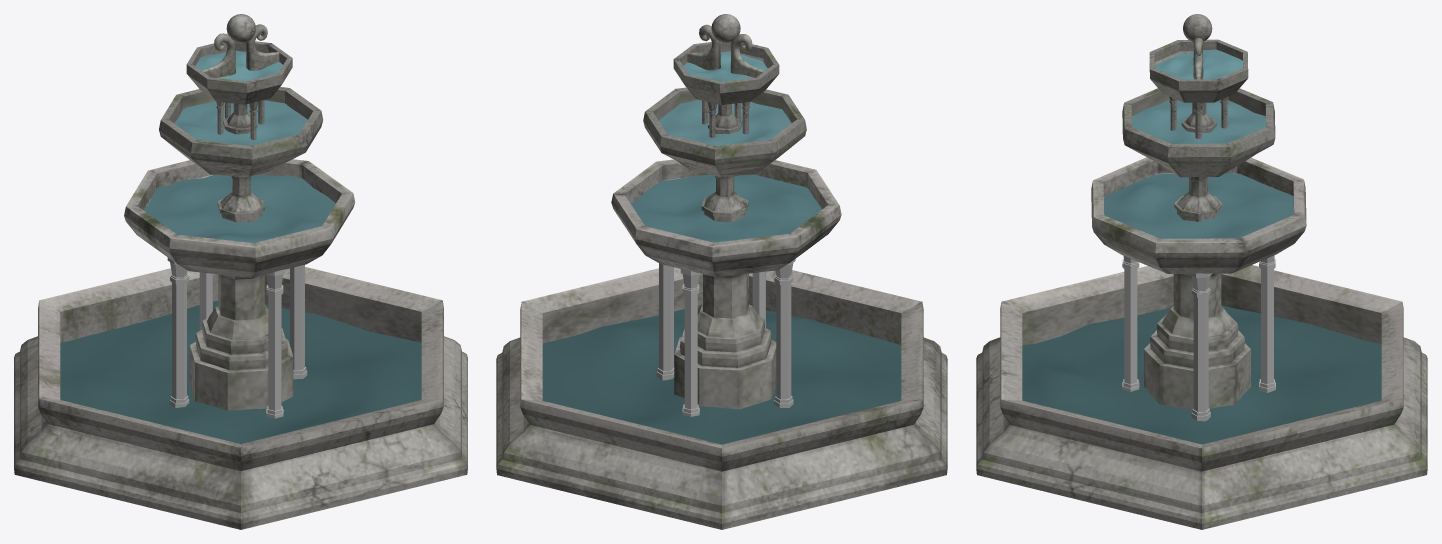
The model's file is Sketch_Fanb_Fountain.fbx.
The picture shows the model from 3 angles, left to right: view 1: azimuth 30°, elevation 25°; view 2: azimuth 150°, elevation 25°; view 3: azimuth 270°, elevation 25°; orthographic projection.
Visible parts, largest first — view 1: pPipe7, pCylinder1, pPipe6, pCylinder2, pasted__pPipe6 (×2), pasted__pCylinder1, pasted__pasted__pPipe5, pasted__pasted__pCylinder1, pasted__pasted__pasted__pasted__pTorus1, pCylinder3, pasted__pasted__pasted__pCylinder1, group25_pasted__group19_pasted__pasted__group18_pasted__past (+2 smaller); view 2: pPipe7, pCylinder1, pPipe6, pCylinder2, pasted__pPipe6 (×2), pasted__pCylinder1, pasted__pasted__pPipe5, pasted__pasted__pCylinder1, pasted__pasted__pasted__pasted__pTorus1, pCylinder3, pasted__pasted__pasted__pCylinder1, group25_pasted__group19_pasted__pasted__group18_pasted__past (+2 smaller); view 3: pPipe7, pCylinder1, pPipe6, pasted__pPipe6 (×2), pCylinder2, pasted__pCylinder1, pasted__pasted__pPipe5, pasted__pasted__pCylinder1, pasted__pasted__pasted__pCylinder1, pCylinder3, group25_pasted__group19_pasted__pasted__group18_pasted__past, pSphere1 (+1 smaller).
Part boxes in pixels (x1=…): pPipe7: x1=14, y1=267, x2=467, y2=529; pCylinder1: x1=60, y1=301, x2=421, y2=443; pPipe6: x1=124, y1=159, x2=354, y2=277; pCylinder2: x1=189, y1=274, x2=293, y2=410; pasted__pPipe6 (×2): x1=159, y1=41, x2=323, y2=177; pasted__pCylinder1: x1=143, y1=174, x2=335, y2=242; pasted__pasted__pPipe5: x1=167, y1=257, x2=307, y2=418; pasted__pasted__pCylinder1: x1=174, y1=100, x2=307, y2=145; pasted__pasted__pasted__pasted__pTorus1: x1=201, y1=24, x2=279, y2=77; pCylinder3: x1=217, y1=176, x2=264, y2=222; pasted__pasted__pasted__pCylinder1: x1=195, y1=51, x2=282, y2=81; group25_pasted__group19_pasted__pasted__group18_pasted__past: x1=216, y1=100, x2=264, y2=140; pPipe7: x1=496, y1=267, x2=947, y2=529; pCylinder1: x1=542, y1=305, x2=901, y2=444; pPipe6: x1=611, y1=159, x2=841, y2=277; pCylinder2: x1=674, y1=273, x2=776, y2=409; pasted__pPipe6 (×2): x1=643, y1=42, x2=806, y2=177; pasted__pCylinder1: x1=630, y1=174, x2=821, y2=242; pasted__pasted__pPipe5: x1=656, y1=259, x2=795, y2=416; pasted__pasted__pCylinder1: x1=659, y1=100, x2=791, y2=145; pasted__pasted__pasted__pasted__pTorus1: x1=687, y1=24, x2=764, y2=77; pCylinder3: x1=701, y1=176, x2=748, y2=222; pasted__pasted__pasted__pCylinder1: x1=683, y1=52, x2=767, y2=81; group25_pasted__group19_pasted__pasted__group18_pasted__past: x1=702, y1=100, x2=749, y2=137; pPipe7: x1=976, y1=265, x2=1427, y2=529; pCylinder1: x1=1022, y1=305, x2=1381, y2=444; pPipe6: x1=1091, y1=157, x2=1306, y2=273; pasted__pPipe6 (×2): x1=1122, y1=39, x2=1275, y2=177; pCylinder2: x1=1144, y1=273, x2=1250, y2=409; pasted__pCylinder1: x1=1104, y1=172, x2=1293, y2=238; pasted__pasted__pPipe5: x1=1122, y1=255, x2=1275, y2=421; pasted__pasted__pCylinder1: x1=1131, y1=100, x2=1265, y2=143; pasted__pasted__pasted__pCylinder1: x1=1155, y1=49, x2=1242, y2=79; pCylinder3: x1=1174, y1=177, x2=1222, y2=221; group25_pasted__group19_pasted__pasted__group18_pasted__past: x1=1169, y1=96, x2=1228, y2=138; pSphere1: x1=1183, y1=14, x2=1212, y2=41.
Size of the model in its own units: 8.49 by 7.27 by 7.36.
Materials: 15 (14 with a texture image).
